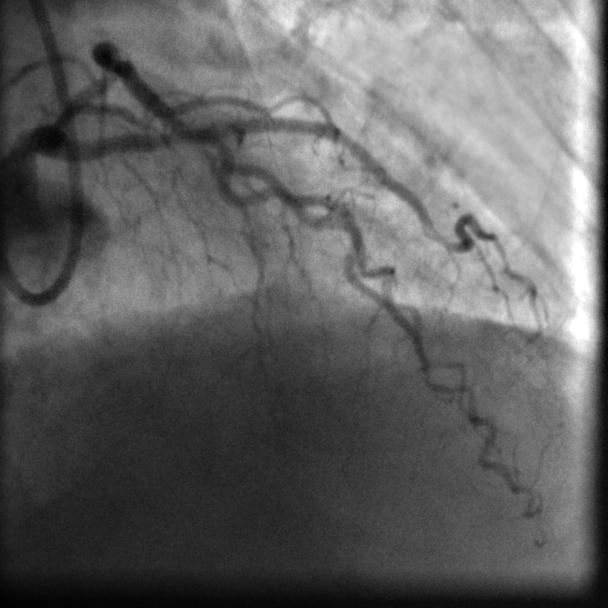Stenosis: (95, 42, 129, 71)
